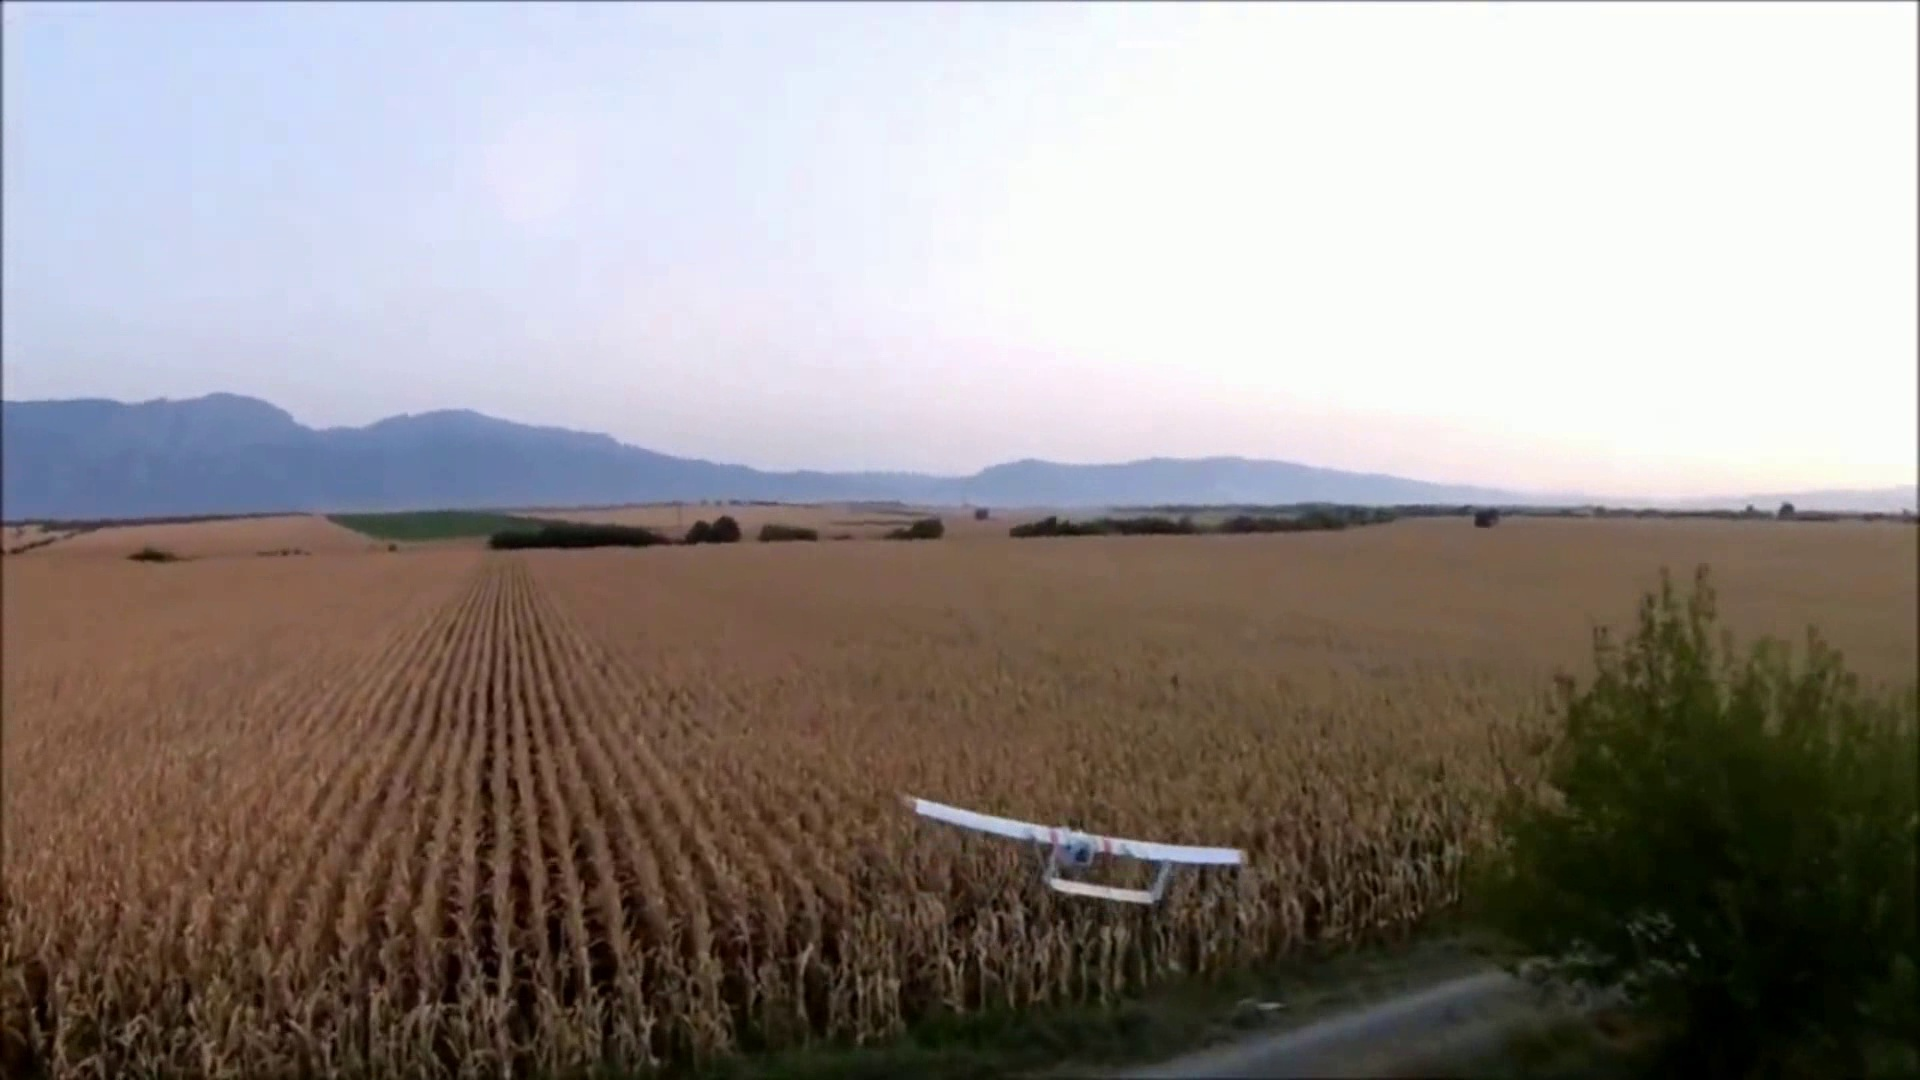airplane: (902, 793, 1247, 911)
